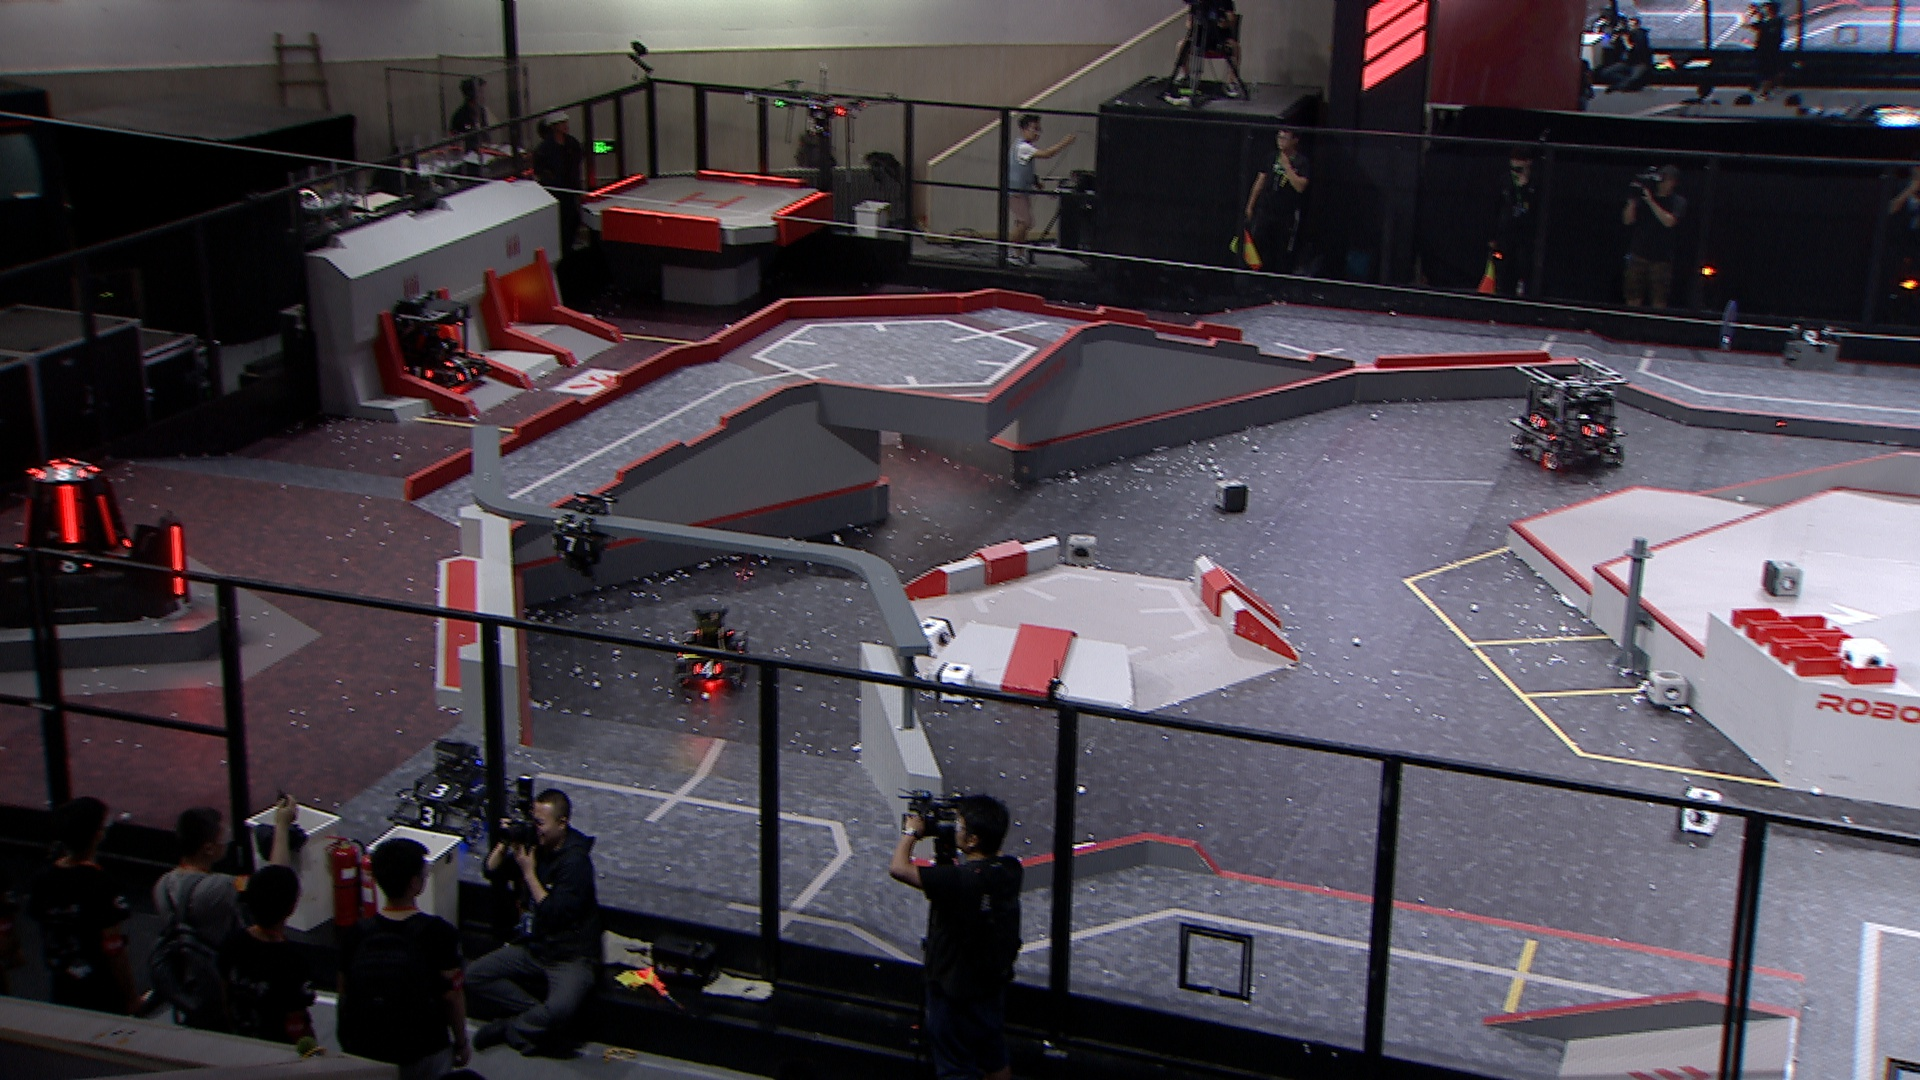armor: (166, 520, 190, 597), (54, 484, 83, 543), (94, 491, 119, 547), (415, 781, 463, 803), (36, 465, 88, 483), (410, 803, 444, 829), (551, 534, 593, 555), (50, 556, 92, 574), (690, 657, 724, 678), (17, 496, 32, 545), (401, 363, 434, 381), (1580, 419, 1607, 438), (454, 367, 479, 384), (444, 356, 471, 368), (1528, 413, 1548, 429)
car: (386, 731, 529, 845), (1513, 357, 1629, 475), (384, 291, 487, 400), (669, 597, 752, 695)
watcher: (547, 491, 622, 582)
